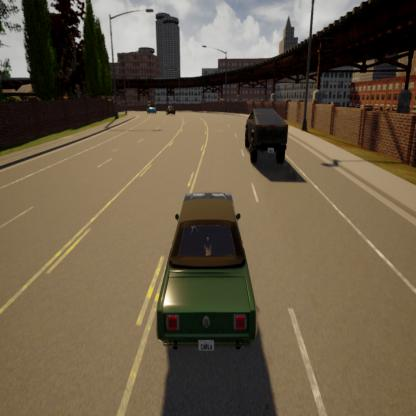Cars: (148, 202, 264, 364), (231, 104, 295, 164), (162, 98, 176, 114), (144, 100, 158, 114)
